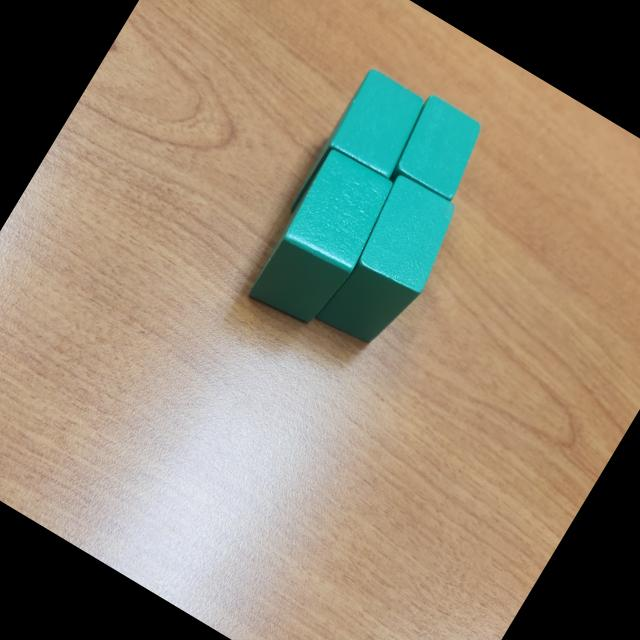green: (241, 143, 404, 336), (312, 172, 469, 360), (284, 65, 436, 248), (381, 93, 494, 214)
